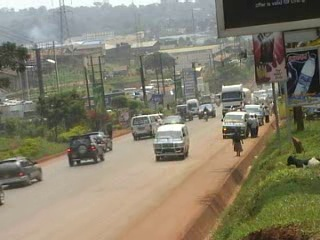Car: (65, 133, 106, 169), (0, 153, 43, 187), (82, 128, 114, 152), (160, 112, 185, 137), (170, 103, 196, 122), (194, 104, 218, 119), (150, 113, 167, 127)
